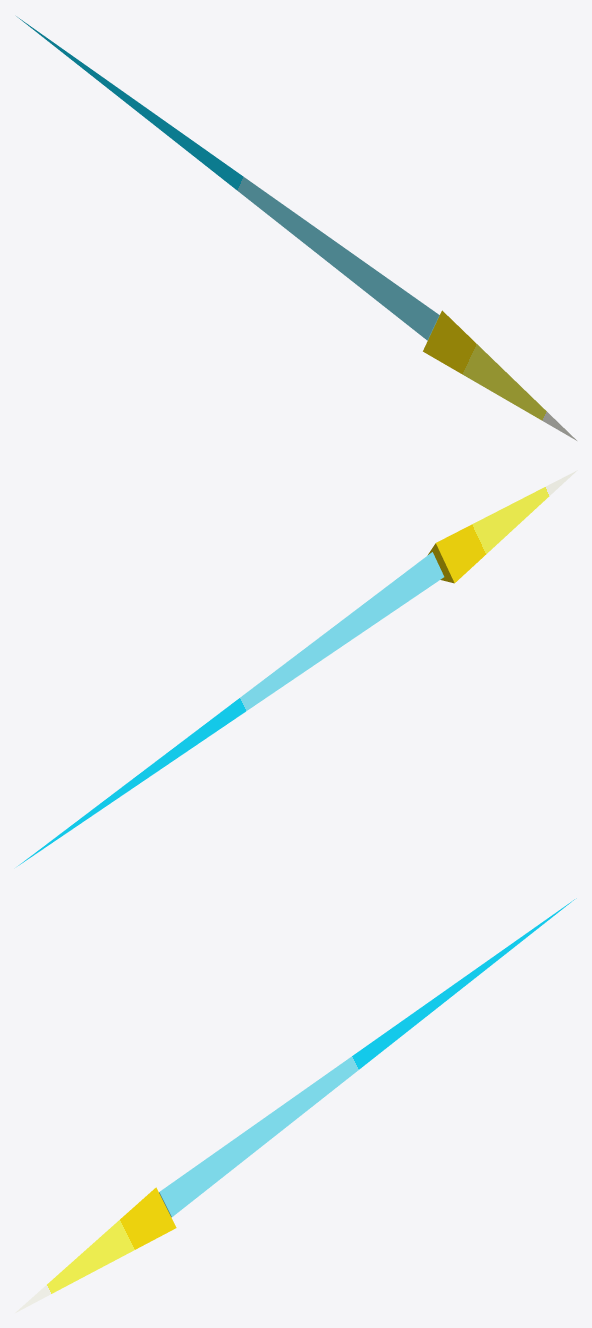
File: RTurret_Rail.glb
3 views of the same model, one above another, from view 1: azimuth 30°, elevation 25°; view 2: azimuth 150°, elevation 25°; view 3: azimuth 330°, elevation 25° (orthographic).
Parts seen in each view (by area): view 1: RTurret_Rail; view 2: RTurret_Rail; view 3: RTurret_Rail.
Boxes of the visible parts, x1,y1,x2,y2 form: RTurret_Rail: [16, 16, 576, 440]; RTurret_Rail: [17, 470, 577, 866]; RTurret_Rail: [15, 898, 576, 1312].
Size of the model in its own units: 0.043 by 0.0374 by 1.06.
1 material, 1 textured.
